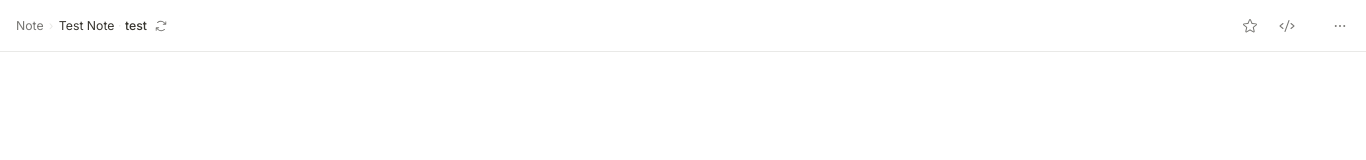
BreadcrumbBar — filename controls › pressing Escape while editing cancels the inline rename
Double-click the button with test id "breadcrumb-filename-trigger" at (136, 26), box 125,17 -> 147,34
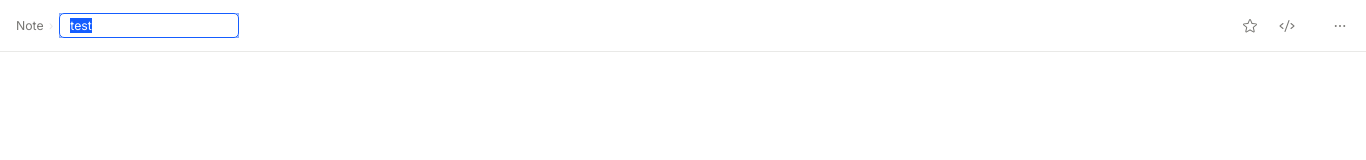
Replace the text in the field with test id "breadcrumb-filename-input" with "renamed-file" at (149, 26), box 59,13 -> 239,38
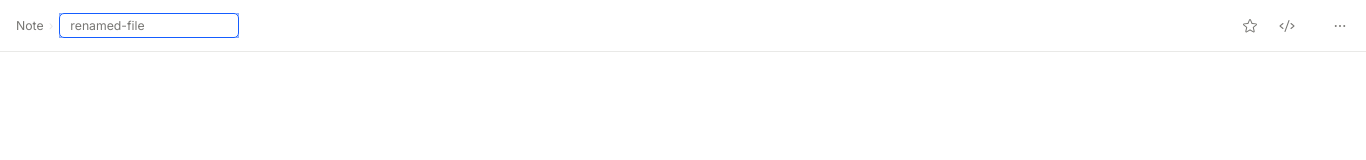
Press Escape in the field with test id "breadcrumb-filename-input", box 59,13 -> 239,38
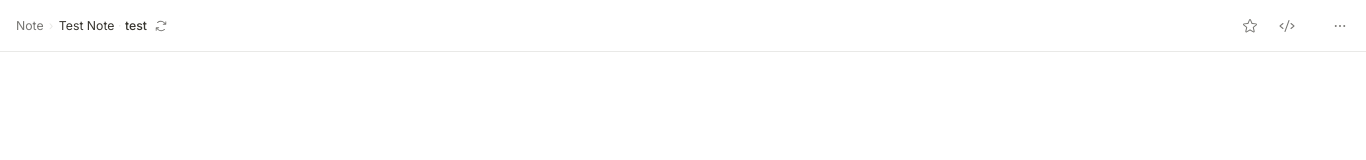
Now the field with test id "breadcrumb-filename-input" is gone
